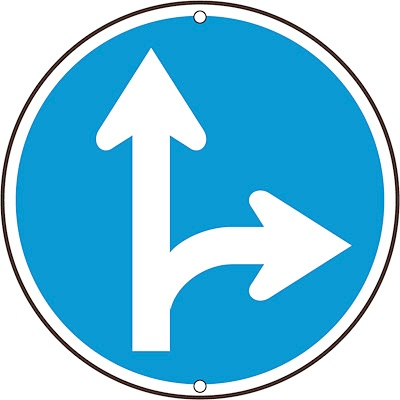Direction_sign: (7, 8, 394, 400)
